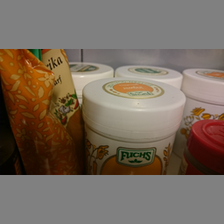spices: (80, 76, 185, 175), (1, 49, 82, 173)
